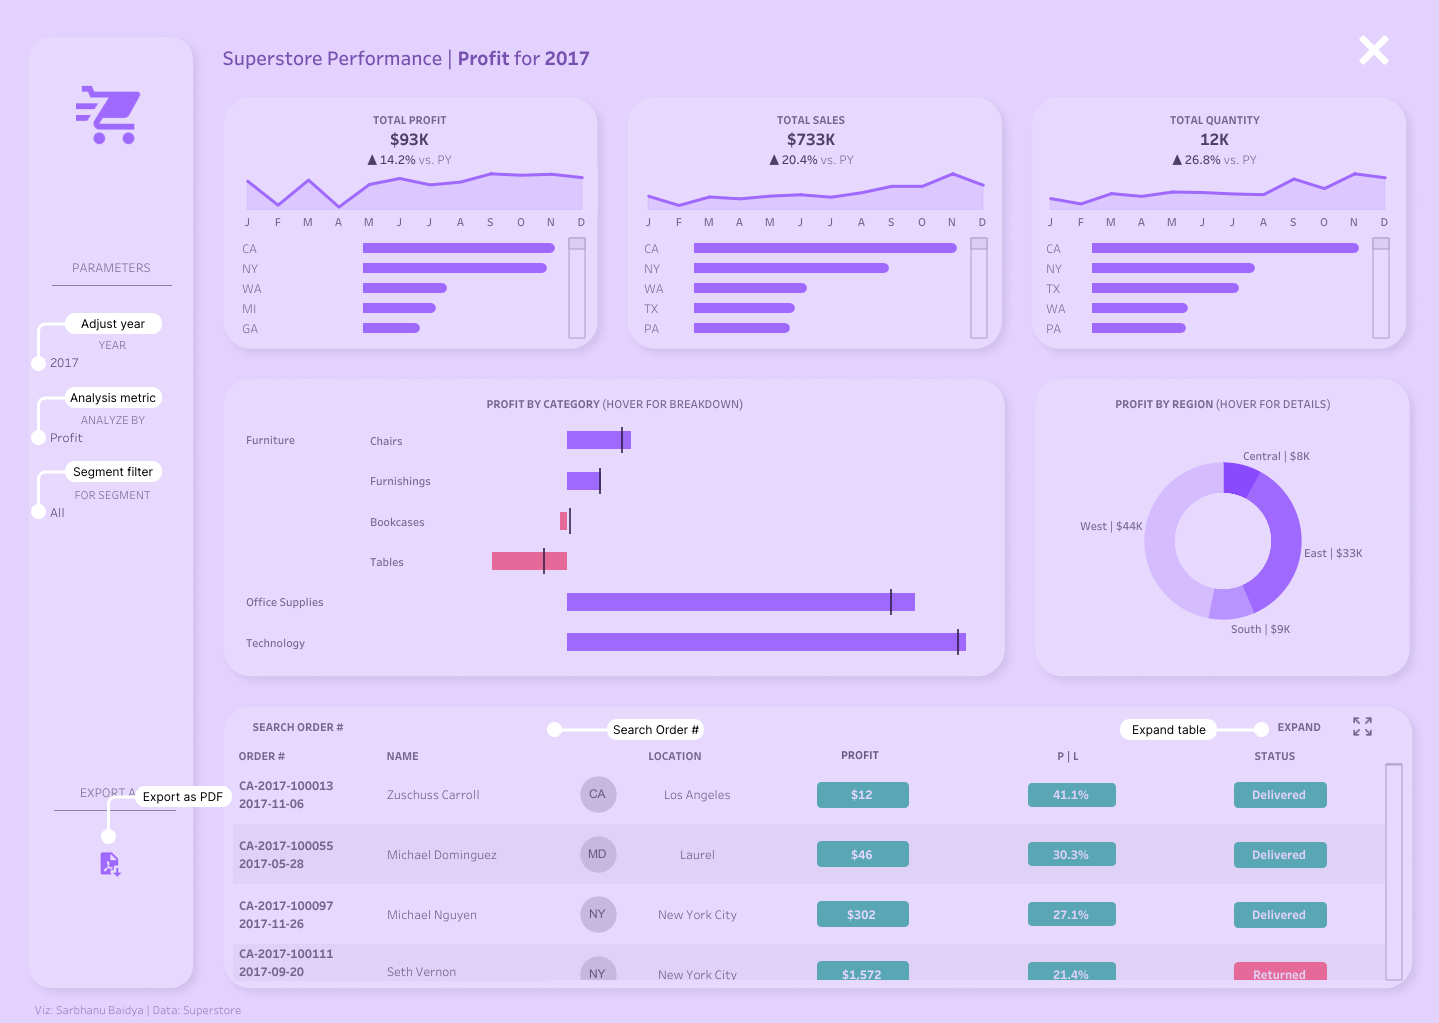

What the dashboard file says about the page in this screenshot:
{"tool":"tableau","page":{"name":"Superstore","canvas":[1440,1024],"ordinal":0},"visuals":[{"type":"image","param":"Image/background.png","box":[0,0,1440,1024]},{"type":"text","box":[220,30,520,55]},{"type":"image","param":"Image/superstore.png","box":[76,80,70,70]},{"type":"worksheet","title":"Profit | BAN","mark":"Text","box":[245,105,330,70]},{"type":"worksheet","title":"Sales | BAN","mark":"Automatic","box":[647,105,330,70]},{"type":"worksheet","title":"Quantity | BAN","mark":"Automatic","box":[1050,105,330,70]},{"type":"worksheet","title":"Profit | Line","mark":"Area","rows":["Profit","Profit"],"cols":["Order Date"],"box":[232,170,365,60]},{"type":"worksheet","title":"Sales | Line","mark":"Area","rows":["Sales","Sales"],"cols":["Order Date"],"box":[633,170,365,60]},{"type":"worksheet","title":"Quantity | Line","mark":"Line","rows":["Quantity","Quantity"],"cols":["Order Date"],"box":[1035,170,365,60]},{"type":"worksheet","title":"Profits, State | Bar","mark":"Bar","rows":["Abbreviation"],"cols":["Profit","Profit"],"box":[236,238,350,100]},{"type":"worksheet","title":"Sales, State | Bar","mark":"Shape","rows":["Abbreviation"],"cols":["Sales","Sales"],"box":[638,238,350,100]},{"type":"worksheet","title":"Quantity, State | Bar","mark":"Shape","rows":["Abbreviation"],"cols":["Quantity","Quantity"],"box":[1040,238,350,100]},{"type":"text","box":[50,250,123,34]},{"type":"blank","box":[52,285,120,1]},{"type":"parameter","param":"[Parameters].[Parameter 2]","box":[48,335,130,46]},{"type":"worksheet","title":"Category | Bar","mark":"Bar","rows":["Category","Calculation_502432861820870673"],"cols":["Calculation_502432861907439636","Calculation_502432861907570709"],"box":[240,390,750,272]},{"type":"worksheet","title":"Region | Pie","mark":"Pie","rows":["Calculation_502432861749727234","Calculation_502432861749727234"],"box":[1048,390,350,272]},{"type":"parameter","param":"[Parameters].[Parameter 1]","box":[48,410,130,46]},{"type":"parameter","param":"[Parameters].[Parameter 6]","box":[48,485,130,47]},{"type":"text","box":[250,714,130,25]},{"type":"parameter","param":"[Parameters].[Parameter 5]","box":[380,714,150,25]},{"type":"text","box":[1275,714,70,25]},{"type":"dashboard-object","box":[1350,714,25,25]},{"type":"text","box":[236,745,150,20]},{"type":"text","box":[384,745,150,20]},{"type":"text","box":[600,745,150,20]},{"type":"worksheet","title":"Metric Name For Table","mark":"Automatic","box":[785,745,150,20]},{"type":"text","box":[993,745,150,20]},{"type":"text","box":[1200,745,150,20]},{"type":"worksheet","title":"Top Orders | Table","mark":"Automatic","rows":["Calculation_502432862049525782","Customer Name"],"cols":["Calculation_502432862757679230","Calculation_502432862757658749","Calculation_502432862518468692","Calculation_502432862518435923","Calculation_502432862613717107"],"box":[233,764,1170,216]},{"type":"text","box":[50,775,123,34]},{"type":"blank","box":[54,809.9,122.4,0.9]},{"type":"dashboard-object","box":[65,850,90,27]},{"type":"text","box":[32,990,259,39]}]}

Visuals, with their boxes in screenshot pixels (x1, y1, x2, y2), scaled from the page's 1440x1024 canvas onto the 1439x1023 screenshot:
image: 0, 0, 1438, 1022
text: 220, 30, 739, 85
image: 76, 80, 146, 150
"Profit | BAN" worksheet (Text marks): 245, 105, 575, 175
"Sales | BAN" worksheet: 647, 105, 976, 175
"Quantity | BAN" worksheet: 1049, 105, 1379, 175
"Profit | Line" worksheet (Area marks): 232, 170, 597, 230
"Sales | Line" worksheet (Area marks): 633, 170, 997, 230
"Quantity | Line" worksheet (Line marks): 1034, 170, 1399, 230
"Profits, State | Bar" worksheet (Bar marks): 236, 238, 586, 338
"Sales, State | Bar" worksheet (Shape marks): 638, 238, 987, 338
"Quantity, State | Bar" worksheet (Shape marks): 1039, 238, 1389, 338
text: 50, 250, 173, 284
blank: 52, 285, 172, 286
parameter: 48, 335, 178, 381
"Category | Bar" worksheet (Bar marks): 240, 390, 989, 661
"Region | Pie" worksheet (Pie marks): 1047, 390, 1397, 661
parameter: 48, 410, 178, 456
parameter: 48, 485, 178, 531
text: 250, 713, 380, 738
parameter: 380, 713, 530, 738
text: 1274, 713, 1344, 738
dashboard-object: 1349, 713, 1374, 738
text: 236, 744, 386, 764
text: 384, 744, 534, 764
text: 600, 744, 749, 764
"Metric Name For Table" worksheet: 784, 744, 934, 764
text: 992, 744, 1142, 764
text: 1199, 744, 1349, 764
"Top Orders | Table" worksheet: 233, 763, 1402, 979
text: 50, 774, 173, 808
blank: 54, 809, 176, 810
dashboard-object: 65, 849, 155, 876
text: 32, 989, 291, 1022
